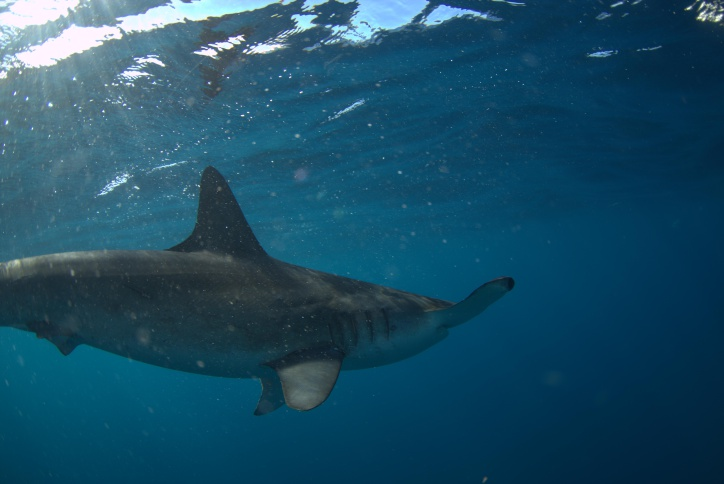Hammer: (1, 151, 531, 431), (320, 238, 538, 332)
